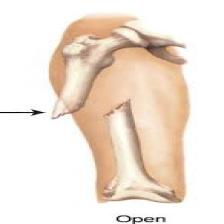open-compound-fracture: (46, 14, 221, 206)
